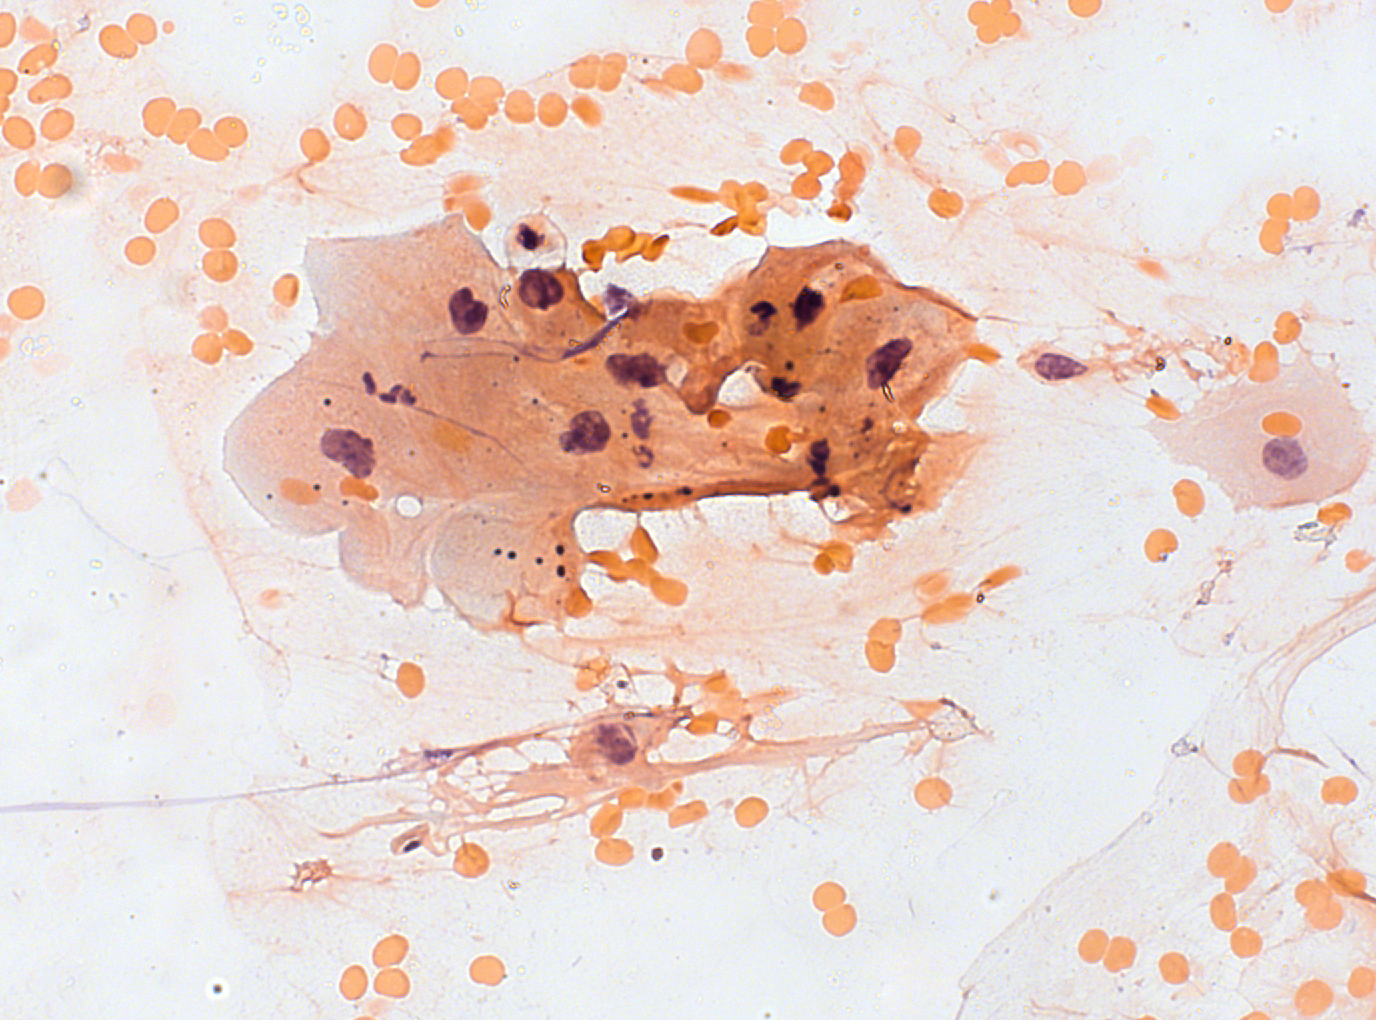Abnormal_Nucleus: (862, 331, 919, 397), (597, 346, 672, 393), (317, 425, 376, 480), (554, 406, 614, 457), (443, 284, 490, 343), (786, 284, 826, 337)
Normal_Nucleus: (1257, 433, 1313, 484), (590, 720, 641, 770), (517, 267, 566, 318)
